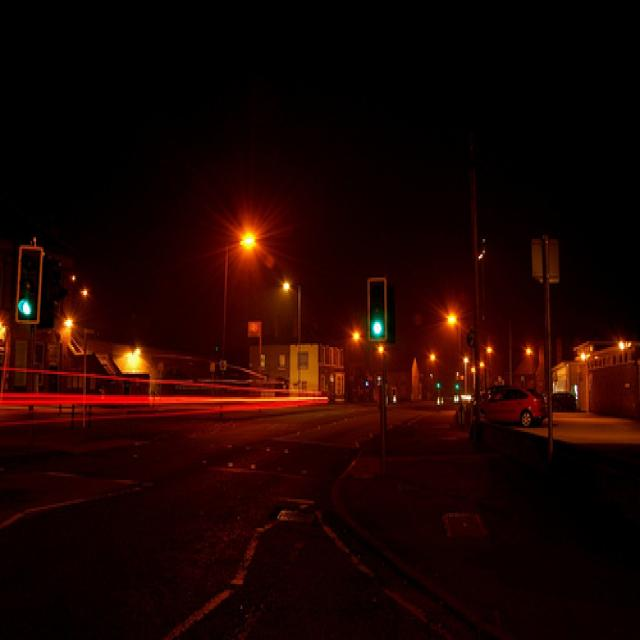Car: (474, 387, 544, 431)
